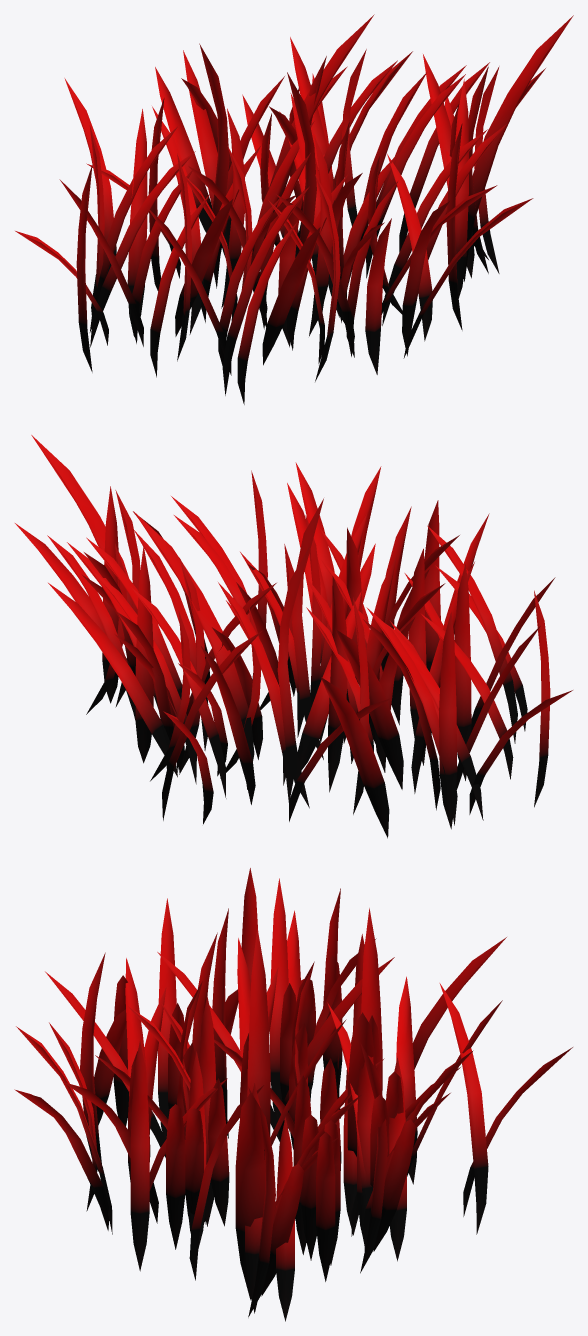
Rendered from SM_Grass_Sub_Many.fbx.
3 renders of one model, top to bottom at view 1: azimuth 30°, elevation 25°; view 2: azimuth 150°, elevation 25°; view 3: azimuth 270°, elevation 25°, orthographic. The views are drawn at different scales.
Parts seen in each view (by area): view 1: Plane014; view 2: Plane014; view 3: Plane014.
Boxes of the visible parts, <box> form: Plane014: <box>15,14,573,404</box>; Plane014: <box>15,435,572,838</box>; Plane014: <box>14,868,572,1321</box>.
Bounding box in the file's own units: 183 × 81.53 × 148.
